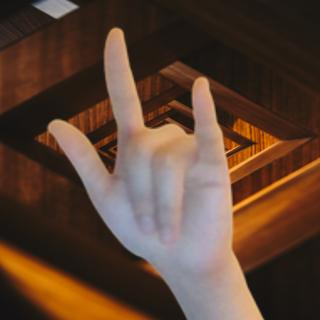ILY: (43, 21, 241, 283)
